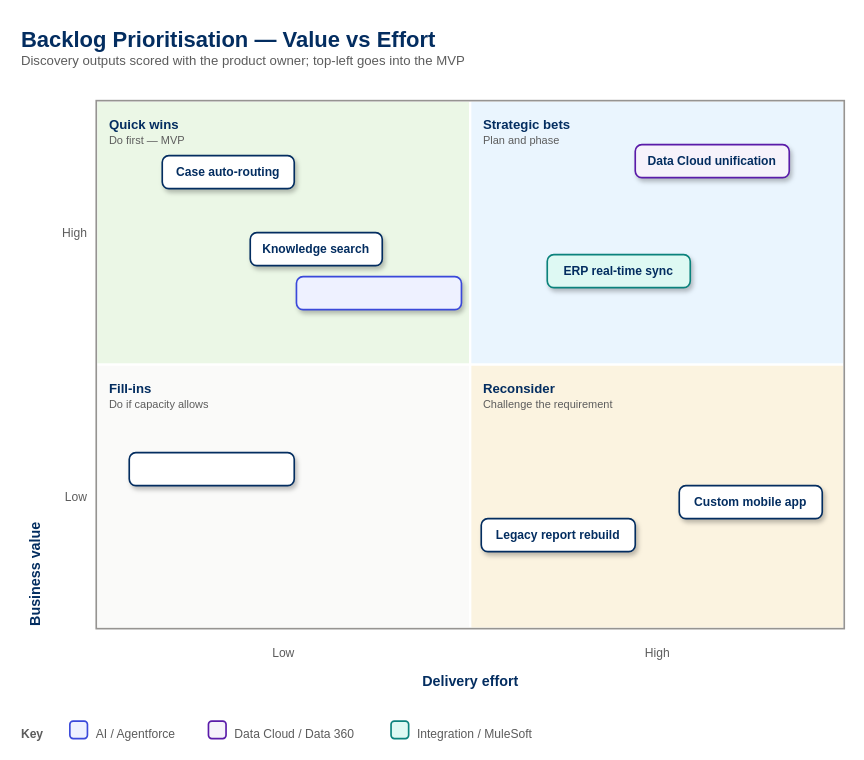
This 864x760 diagram has some shape labels left out. Each missing label, with the centre of its shape:
"Agentforce order status" belongs at [379,294].
"Email templates refresh" belongs at [212,470].
